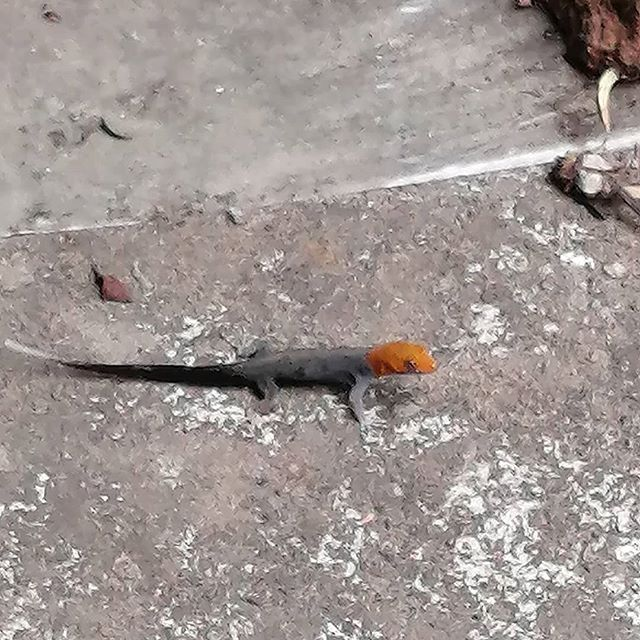animal: (1, 311, 482, 419)
